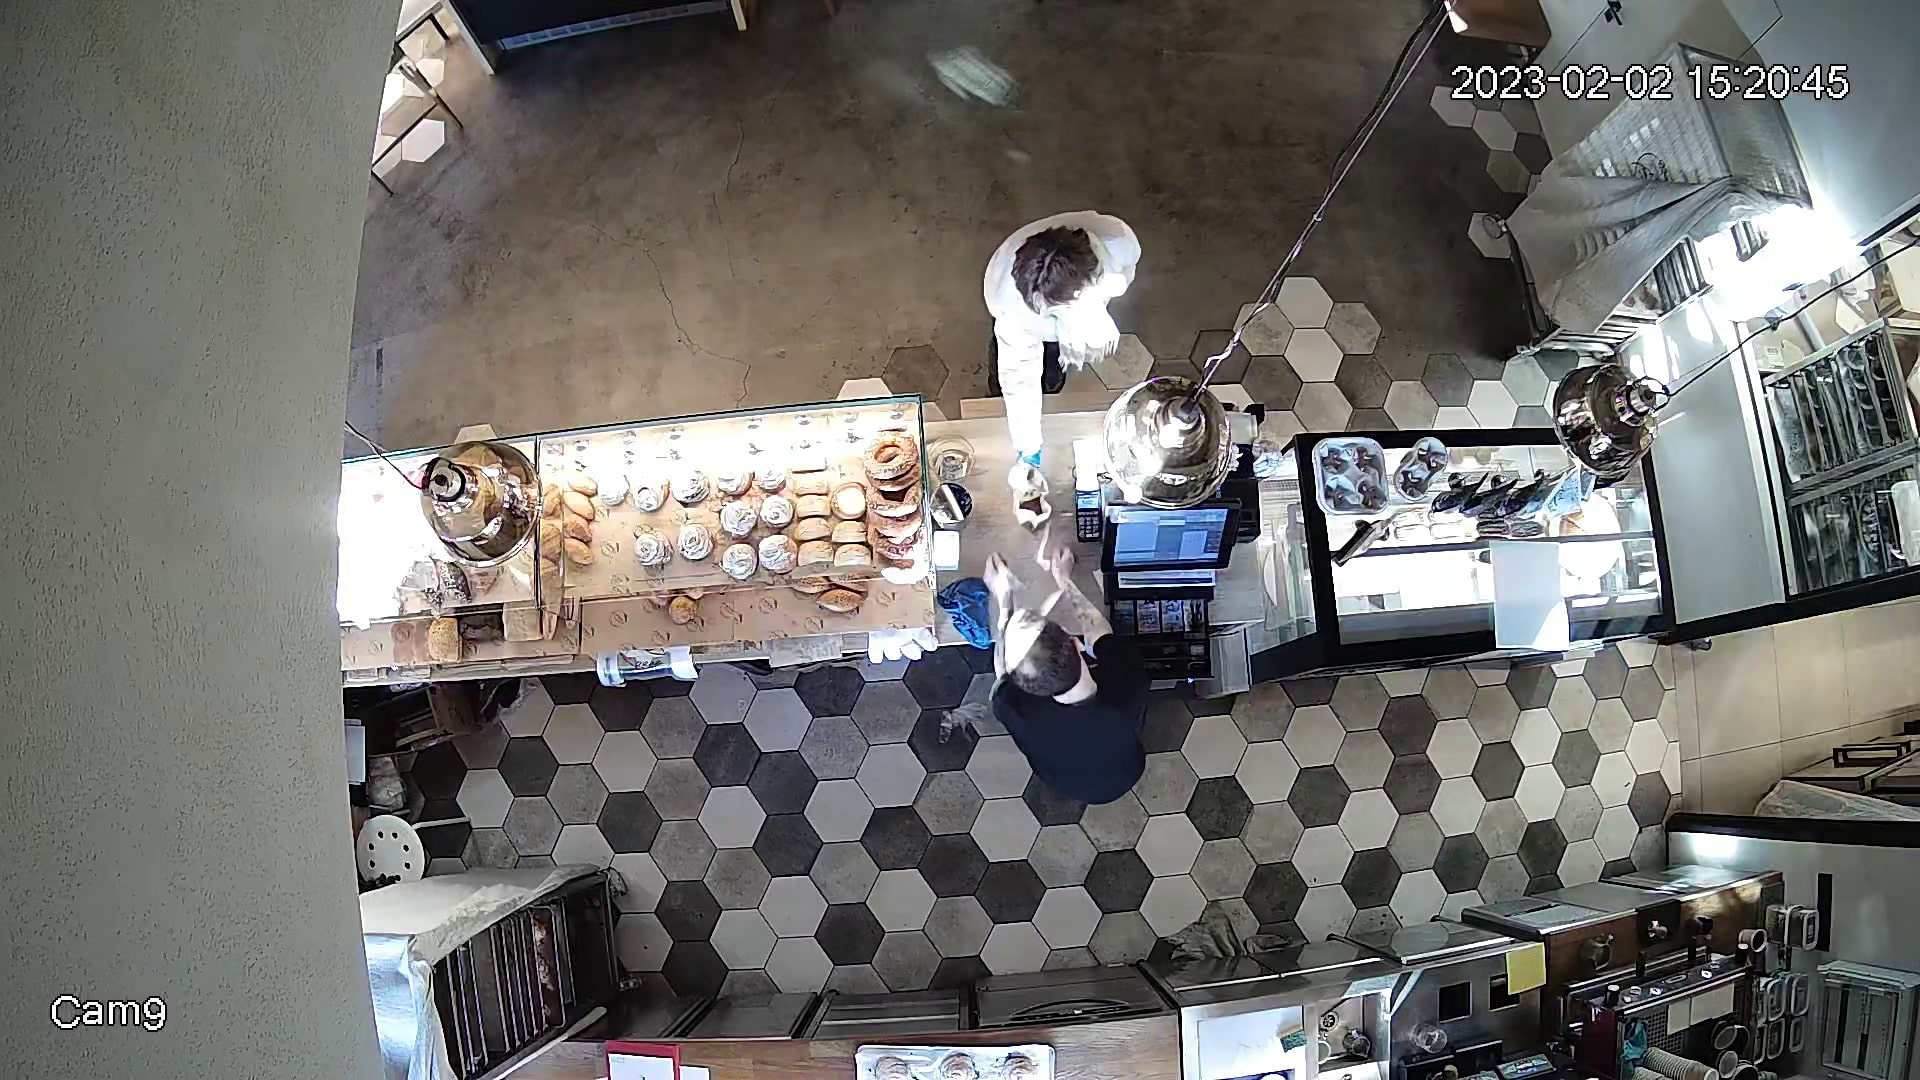barcounter: (337, 417, 1672, 651)
openedcash: (1102, 486, 1246, 684)
person: (958, 209, 1142, 459), (972, 583, 1151, 837)
